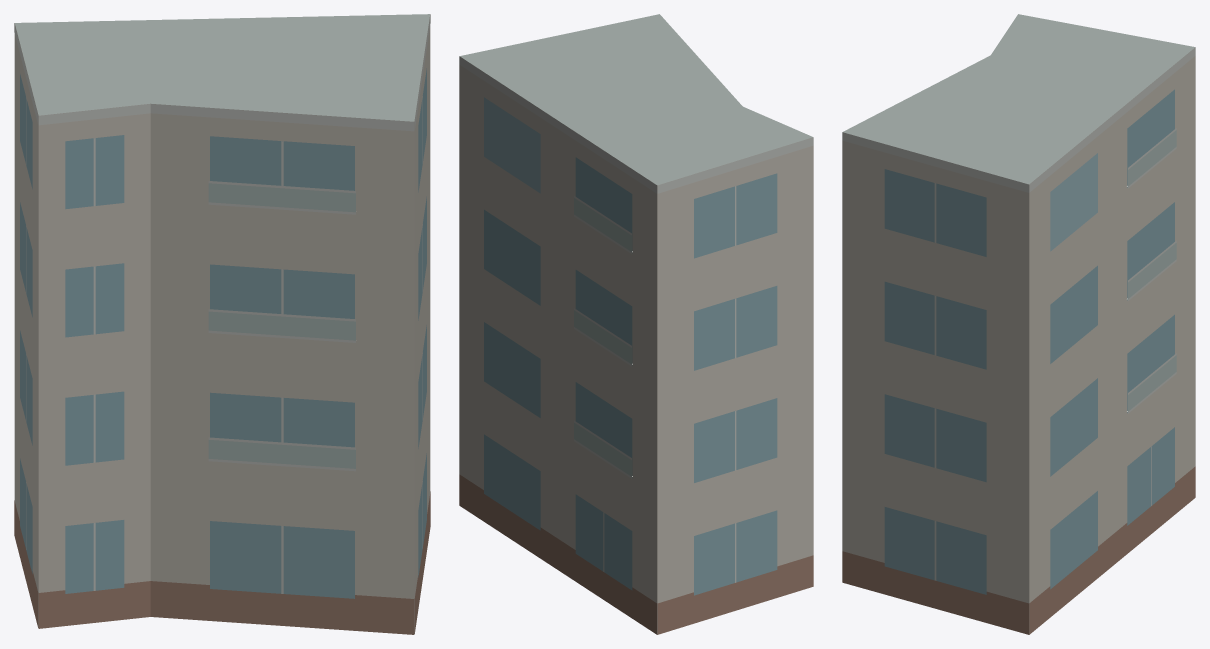
The model's file is survey-upis-32801029.glb.
The picture shows the model from 3 angles, left to right: view 1: azimuth 30°, elevation 25°; view 2: azimuth 150°, elevation 25°; view 3: azimuth 270°, elevation 25°; orthographic projection. The views are drawn at different scales.
Parts seen in each view (by area): view 1: survey-upis-32801029.tmp; view 2: survey-upis-32801029.tmp; view 3: survey-upis-32801029.tmp.
Boxes of the visible parts, bbox=[...] form: survey-upis-32801029.tmp: bbox=[14, 14, 430, 634]; survey-upis-32801029.tmp: bbox=[459, 14, 813, 634]; survey-upis-32801029.tmp: bbox=[842, 14, 1195, 634].
Bounding box in the file's own units: 10.56 × 13 × 9.25.
